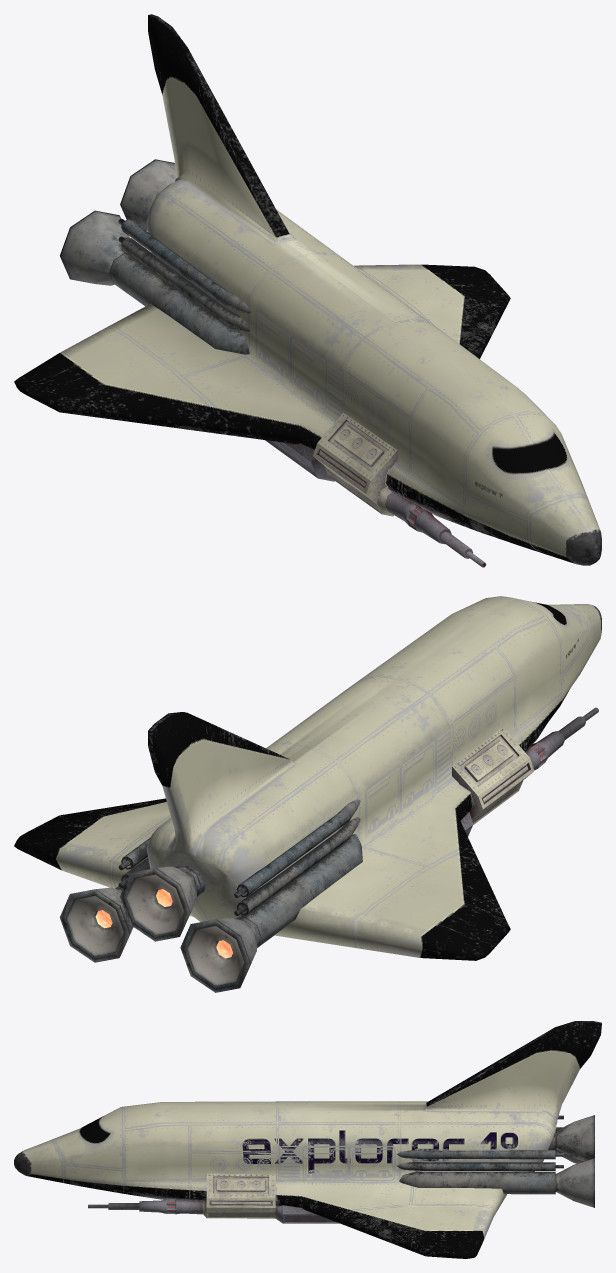
3 renders of one model, top to bottom at view 1: azimuth 30°, elevation 25°; view 2: azimuth 150°, elevation 25°; view 3: azimuth 270°, elevation 25°, orthographic. The views are drawn at different scales.
Parts seen in each view (by area): view 1: shuttle, antrieb, guns; view 2: shuttle, antrieb, guns; view 3: shuttle, antrieb, guns.
Part boxes in pixels (left/top/right/bottom): shuttle: left=14, top=14, right=601, bottom=565; antrieb: left=60, top=159, right=250, bottom=354; guns: left=265, top=413, right=486, bottom=567; shuttle: left=14, top=596, right=601, bottom=960; antrieb: left=60, top=799, right=362, bottom=992; guns: left=452, top=707, right=598, bottom=836; shuttle: left=14, top=1021, right=601, bottom=1258; antrieb: left=397, top=1115, right=594, bottom=1207; guns: left=88, top=1173, right=339, bottom=1223.
Size of the model in its own units: 6.23 by 3.52 by 10.26.
3 materials, 3 textured.
